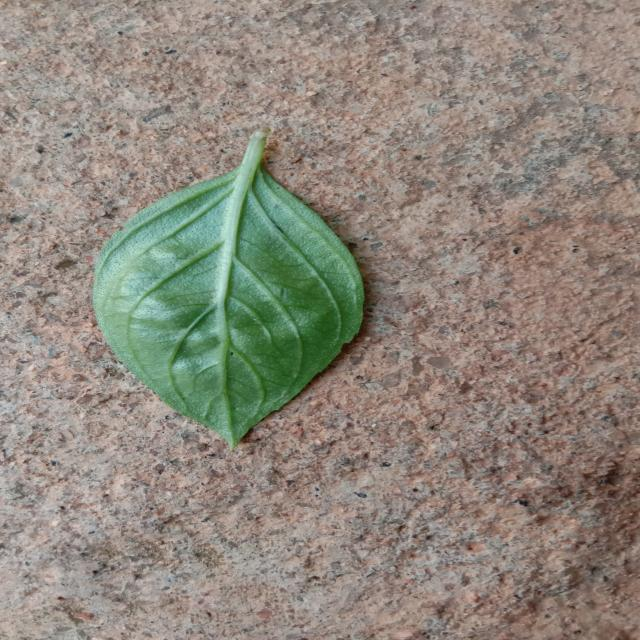kamakasturi: (93, 129, 365, 449)
